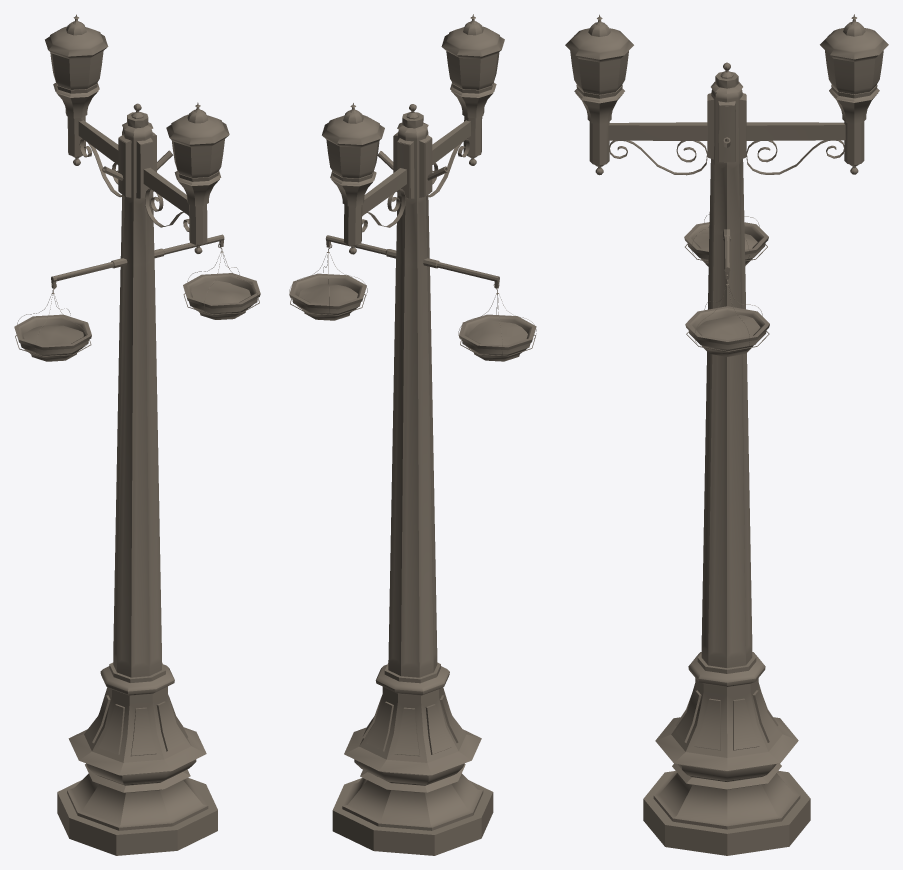
Rendered from farola.obj.
The picture shows the model from 3 angles, left to right: view 1: azimuth 30°, elevation 25°; view 2: azimuth 150°, elevation 25°; view 3: azimuth 270°, elevation 25°; orthographic projection. The views are drawn at different scales.
Parts seen in each view (by area): view 1: Streetlight_LowRes; view 2: Streetlight_LowRes; view 3: Streetlight_LowRes.
Part boxes in pixels (<box>): Streetlight_LowRes: <box>14,14,260,855</box>; Streetlight_LowRes: <box>289,14,536,855</box>; Streetlight_LowRes: <box>565,14,888,855</box>.
Size of the model in its own units: 128 by 391 by 142.
